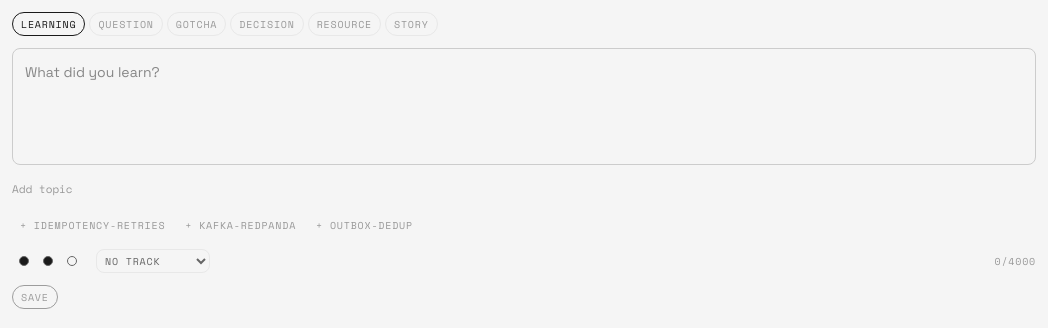
Scenario: NoteComposer › adds a normalized topic chip on Enter and removes it with the x button
Type "Go Concurrency" into the field labelled "topic".
click(524, 189); type("Go Concurrency")  # box [12,177,1036,201]
Then press Enter
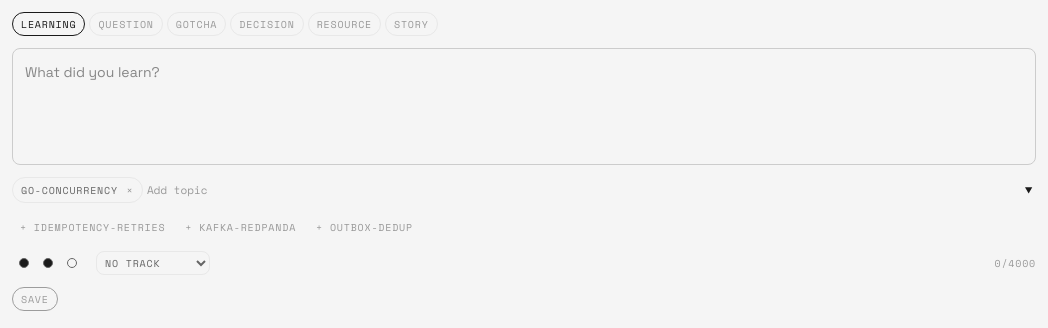
expect the text "go-concurrency" is shown: met, box [21,182,118,198]
Click the button named "Remove go-concurrency".
click(130, 190)  # box [118,178,142,202]
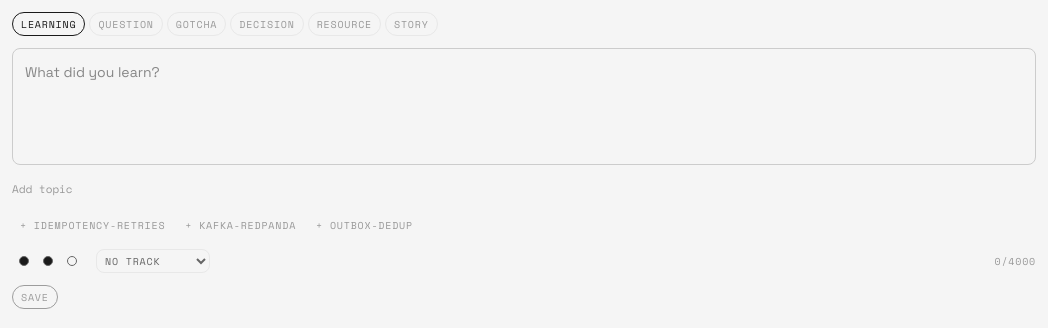
expect the text "go-concurrency" is gone: met
